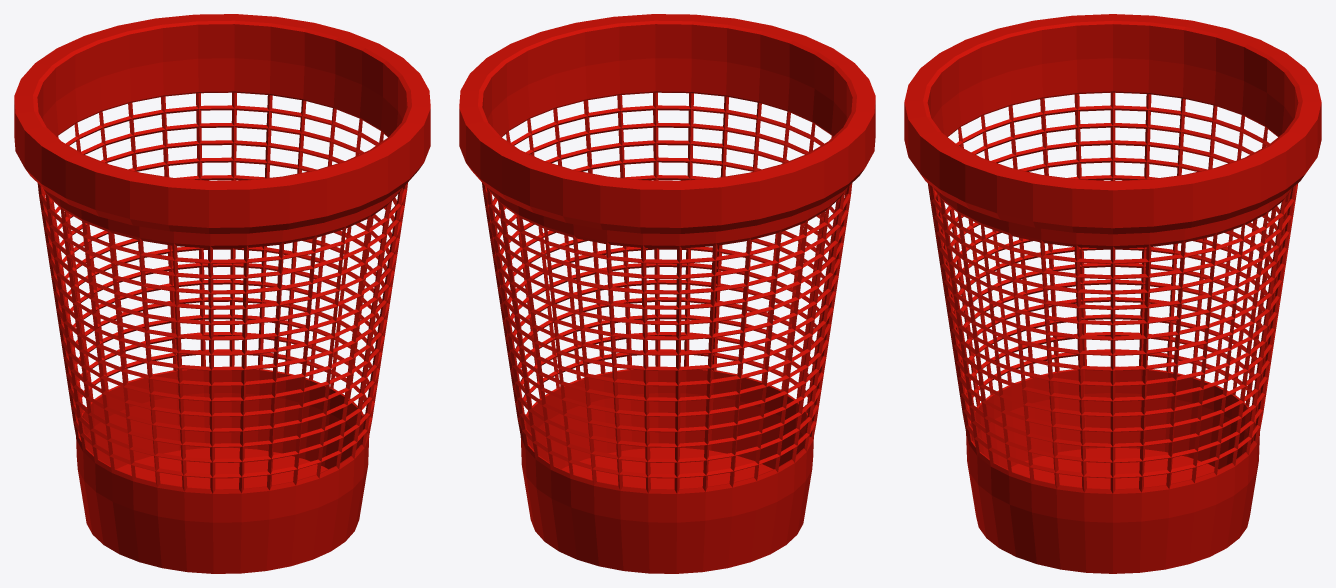
The model's file is KERANJANG SAMPAH.fbx.
The picture shows the model from 3 angles, left to right: view 1: azimuth 30°, elevation 25°; view 2: azimuth 150°, elevation 25°; view 3: azimuth 270°, elevation 25°; orthographic projection.
Visible parts, largest first — view 1: Cylinder; view 2: Cylinder; view 3: Cylinder.
Boxes of the visible parts, x1,y1,x2,y2 form: Cylinder: [14, 14, 430, 573]; Cylinder: [459, 14, 875, 573]; Cylinder: [904, 14, 1321, 573].
Size of the model in its own units: 335 by 368 by 335.
